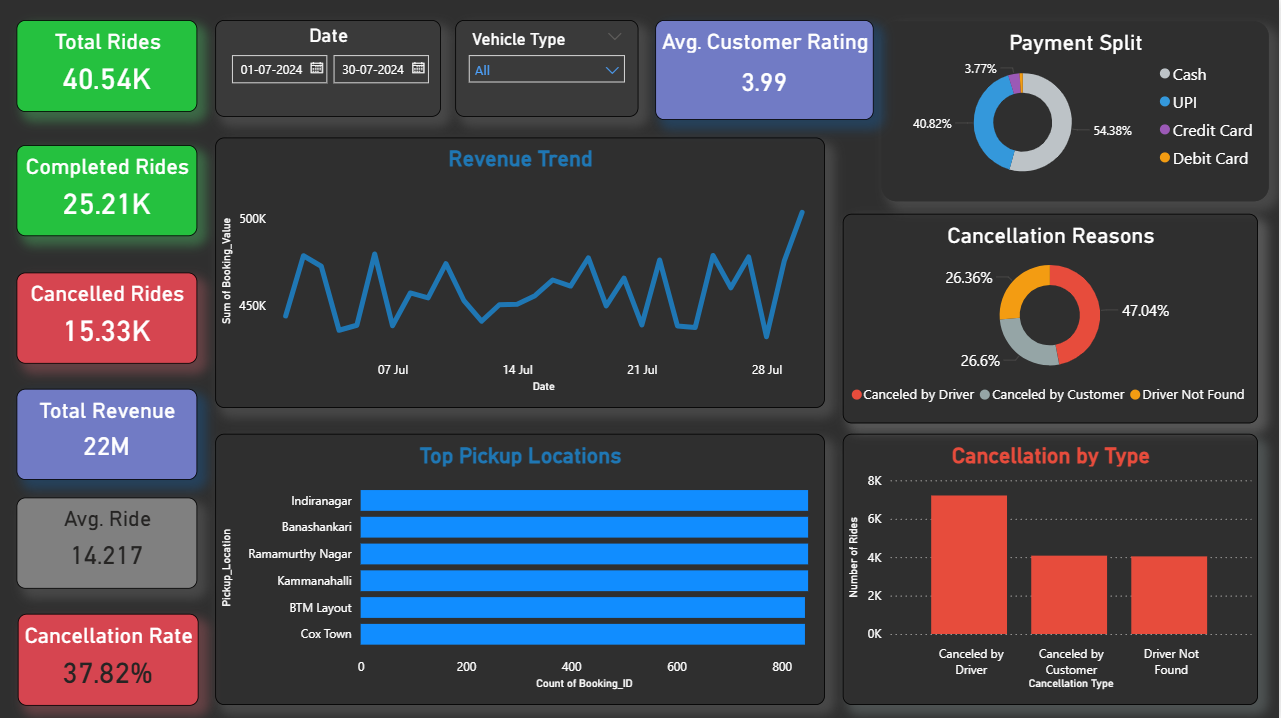

What the dashboard file says about the page in this screenshot:
{"tool":"powerbi","page":{"name":"Page 1","canvas":[1280,720],"ordinal":0},"visuals":[{"type":"card","title":"Total Rides","fields":{"Values":["CountNonNull(July.Booking_ID)"]},"box":[16.9,20.5,181,91.7],"z":0},{"type":"card","title":"Completed Rides","fields":{"Values":["CountNonNull(July.Booking_ID)"]},"box":[16.9,145.5,180.5,90.9],"z":1000},{"type":"card","title":"Cancelled Rides","fields":{"Values":["CountNonNull(July.Booking_ID)"]},"box":[16.9,272.7,180.5,90.9],"z":2000},{"type":"card","title":"Total Revenue","fields":{"Values":["Sum(July.Booking_Value)"]},"box":[16.9,388.3,180.5,90.9],"z":3000},{"type":"card","title":"Avg. Ride","fields":{"Values":["Avg(July.Ride_Distance)","select"]},"box":[16.9,497.4,180.5,90.9],"z":4000},{"type":"slicer","title":"Date","fields":{"Values":["July.Date"]},"box":[216,20.5,225.6,96.5],"z":5000},{"type":"slicer","fields":{"Values":["July.Vehicle_Type"]},"box":[456,20.5,183.4,96.5],"z":6000},{"type":"donutChart","title":"Payment Split","fields":{"Category":["July.Payment_Method"],"Y":["CountNonNull(July.Payment_Method)"]},"box":[883.1,21.7,387.3,179.8],"z":7000},{"type":"lineChart","title":"Revenue Trend","fields":{"Y":["Sum(July.Booking_Value)"],"Category":["July.Date"]},"box":[216,137.5,609.3,270.2],"z":8000},{"type":"donutChart","title":"Cancellation Reasons","fields":{"Y":["CountNonNull(July.Booking_ID)"],"Category":["July.Booking_Status"]},"box":[843.3,213.5,415,209.9],"z":9000},{"type":"clusteredColumnChart","title":"Cancellation by Type","fields":{"Category":["July.Booking_Status"],"Y":["CountNonNull(July.Booking_ID)"]},"box":[843.3,434.3,415,271.4],"z":10000},{"type":"card","title":"Cancellation Rate","fields":{"Values":["July.Cancellation Rate %"]},"box":[18.2,614.3,180.5,92.2],"z":11000},{"type":"card","title":"Avg. Customer Rating","fields":{"Values":["Avg(July.Customer_Rating)"]},"box":[656.3,20.5,218.4,100.1],"z":12000},{"type":"barChart","title":"Top Pickup Locations","fields":{"Category":["July.Pickup_Location"],"Y":["CountNonNull(July.Booking_ID)"]},"box":[216,434.3,609.3,271.4],"z":13000}]}

Visuals, with their boxes in screenshot pixels (x1, y1, x2, y2), scaled from the page's 1280x720 canvas onto the 1281x718 screenshot:
"Total Rides" card: (left=17, top=20, right=198, bottom=112)
"Completed Rides" card: (left=17, top=145, right=198, bottom=236)
"Cancelled Rides" card: (left=17, top=272, right=198, bottom=363)
"Total Revenue" card: (left=17, top=387, right=198, bottom=478)
"Avg. Ride" card: (left=17, top=496, right=198, bottom=587)
"Date" slicer: (left=216, top=20, right=442, bottom=117)
slicer - July.Vehicle_Type: (left=456, top=20, right=640, bottom=117)
"Payment Split" donutChart: (left=884, top=22, right=1271, bottom=201)
"Revenue Trend" lineChart: (left=216, top=137, right=826, bottom=407)
"Cancellation Reasons" donutChart: (left=844, top=213, right=1259, bottom=422)
"Cancellation by Type" clusteredColumnChart: (left=844, top=433, right=1259, bottom=704)
"Cancellation Rate" card: (left=18, top=613, right=199, bottom=705)
"Avg. Customer Rating" card: (left=657, top=20, right=875, bottom=120)
"Top Pickup Locations" barChart: (left=216, top=433, right=826, bottom=704)
